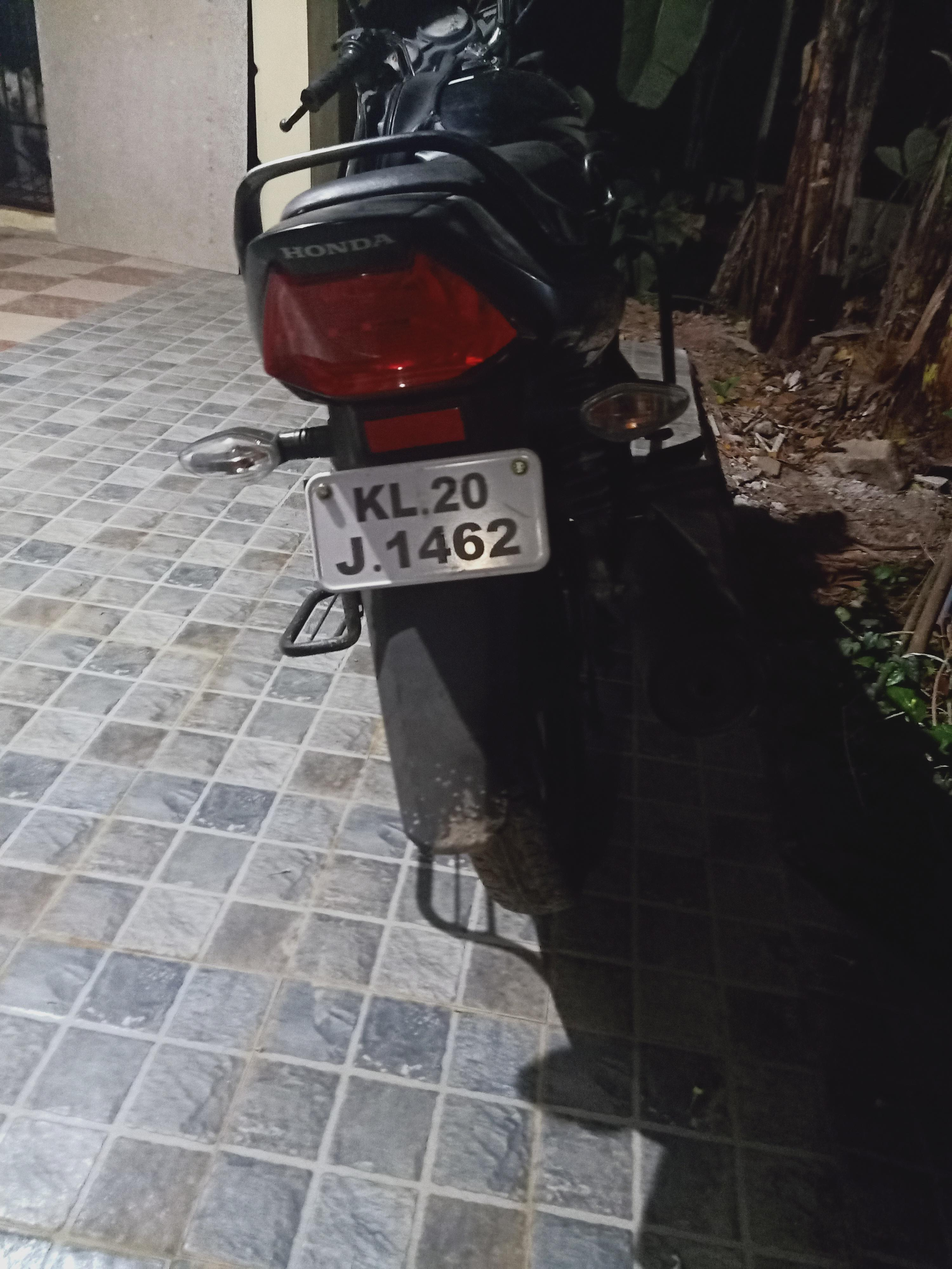number_plate: (303, 448, 549, 593)
